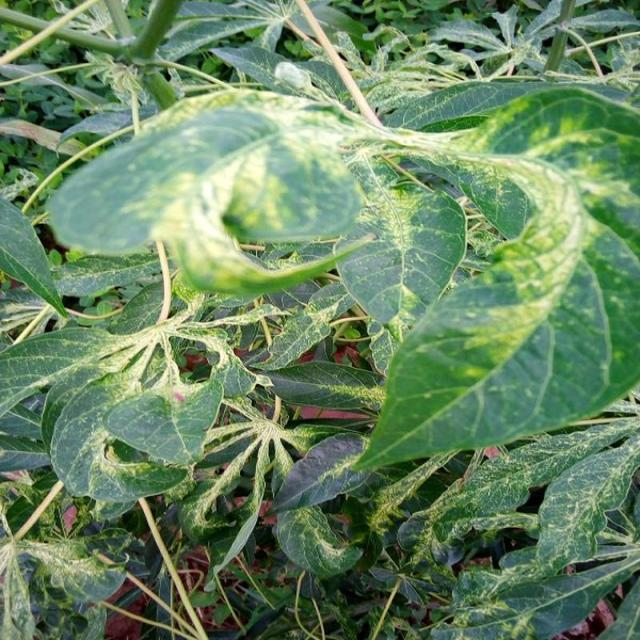cassava leaf: (44, 74, 638, 474), (44, 86, 366, 298)
